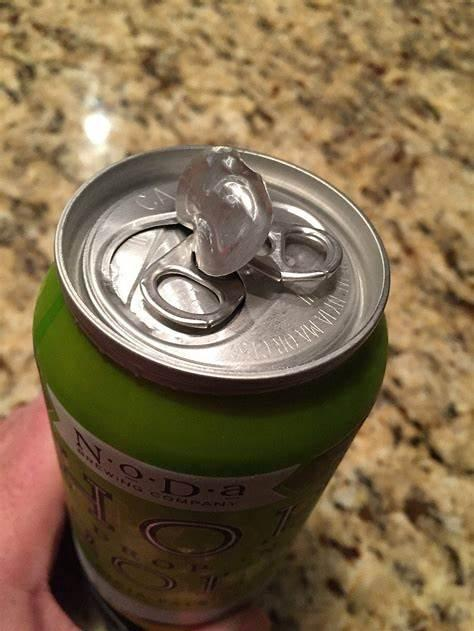metal: (33, 146, 390, 626)
